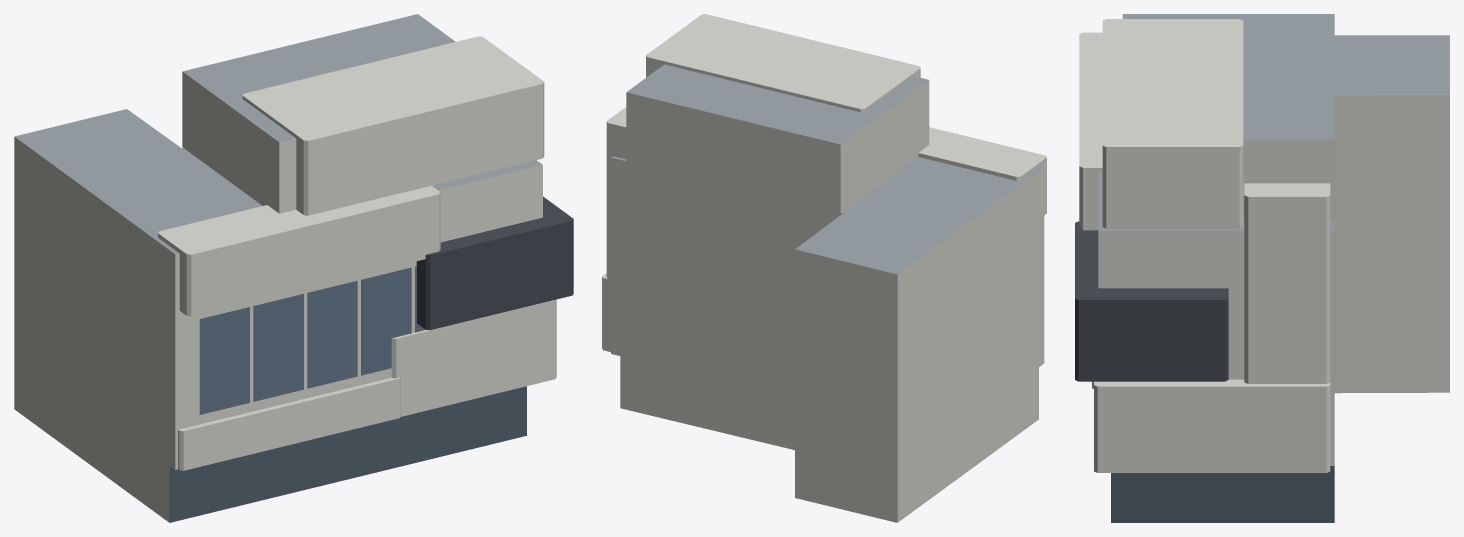
Rendered from cin-contemporary-arts-center.glb.
3 renders of one model, left to right at view 1: azimuth 30°, elevation 25°; view 2: azimuth 150°, elevation 25°; view 3: azimuth 270°, elevation 25°, orthographic. The views are drawn at different scales.
Visible parts, largest first — view 1: Contemporary Arts Center; view 2: Contemporary Arts Center; view 3: Contemporary Arts Center.
Boxes of the visible parts, x1,y1,x2,y2 form: Contemporary Arts Center: [14, 14, 573, 522]; Contemporary Arts Center: [602, 14, 1046, 522]; Contemporary Arts Center: [1075, 14, 1449, 522].
Bounding box in the file's own units: 46.3 × 40 × 35.4.
